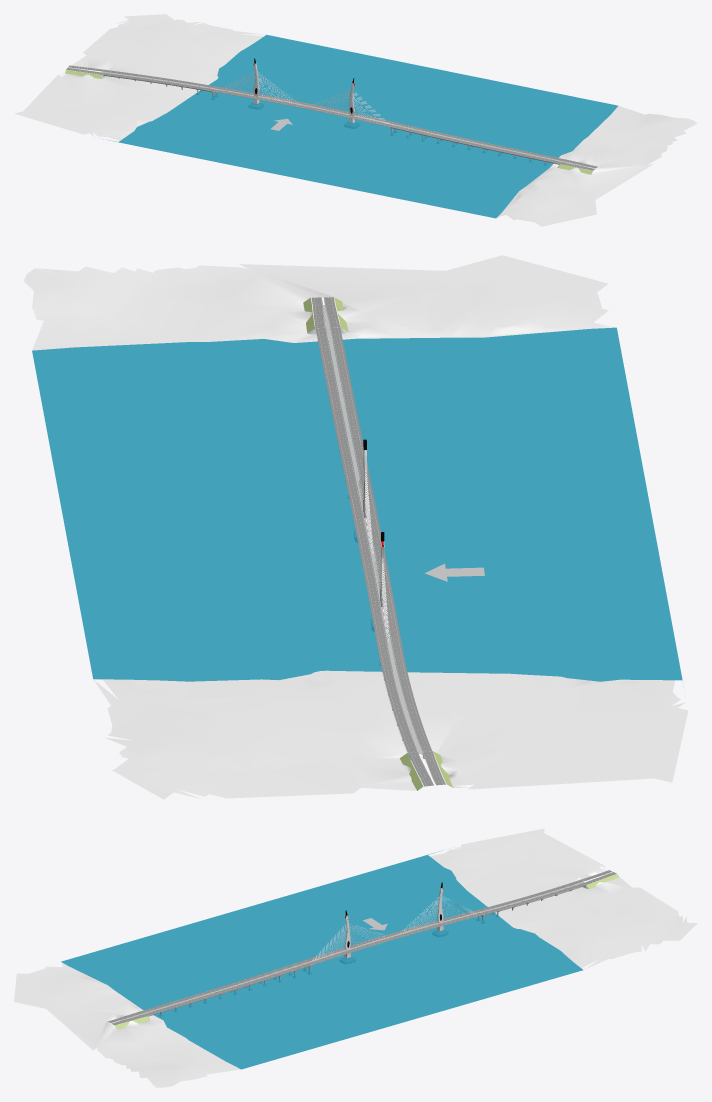
The picture shows the model from 3 angles, top to bottom: view 1: azimuth 30°, elevation 25°; view 2: azimuth 150°, elevation 25°; view 3: azimuth 270°, elevation 25°; orthographic projection. The views are drawn at different scales.
Parts seen in each view (by area): view 1: Mesh Model Water, Mesh Model Gole; view 2: Mesh Model Water, Mesh Model Gole; view 3: Mesh Model Water, Mesh Model Gole.
Boxes of the visible parts, box(x1,y1,x2,y2) form: Mesh Model Water: box(103, 34, 617, 218); Mesh Model Gole: box(14, 14, 697, 226); Mesh Model Water: box(32, 327, 683, 683); Mesh Model Gole: box(23, 255, 688, 799); Mesh Model Water: box(61, 850, 583, 1069); Mesh Model Gole: box(14, 828, 697, 1087).
Size of the model in its own units: 1192 by 109 by 1324.
